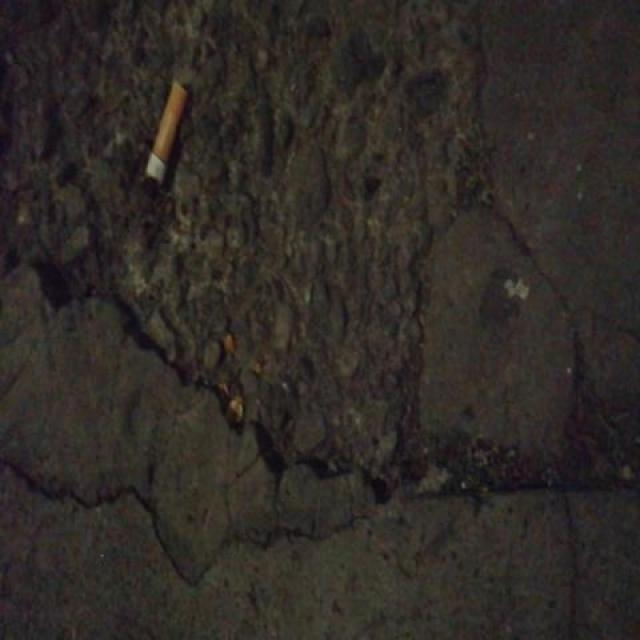non-organic waste: (142, 73, 190, 188)
